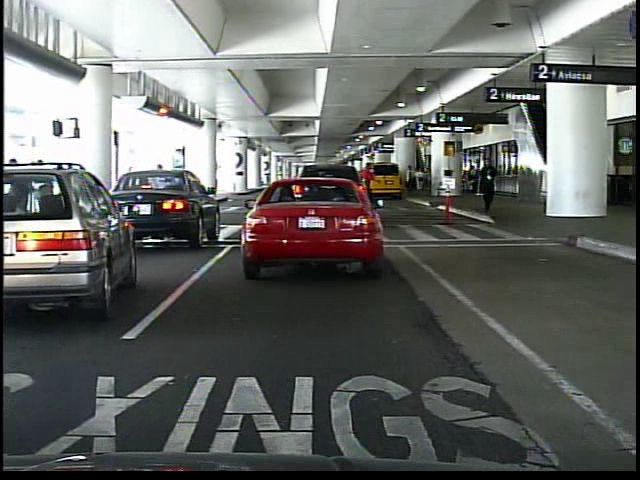person: (149, 160, 175, 228), (359, 160, 379, 218), (479, 158, 498, 215), (405, 161, 418, 197)
